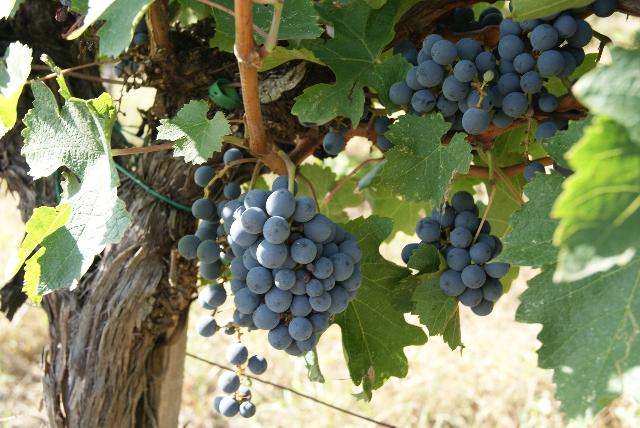grapes: (389, 14, 592, 135), (221, 188, 362, 355), (401, 191, 510, 316), (179, 199, 229, 280)
